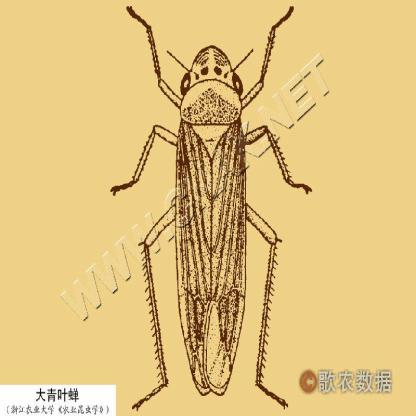Green-Leafhopper: (108, 2, 315, 409)
